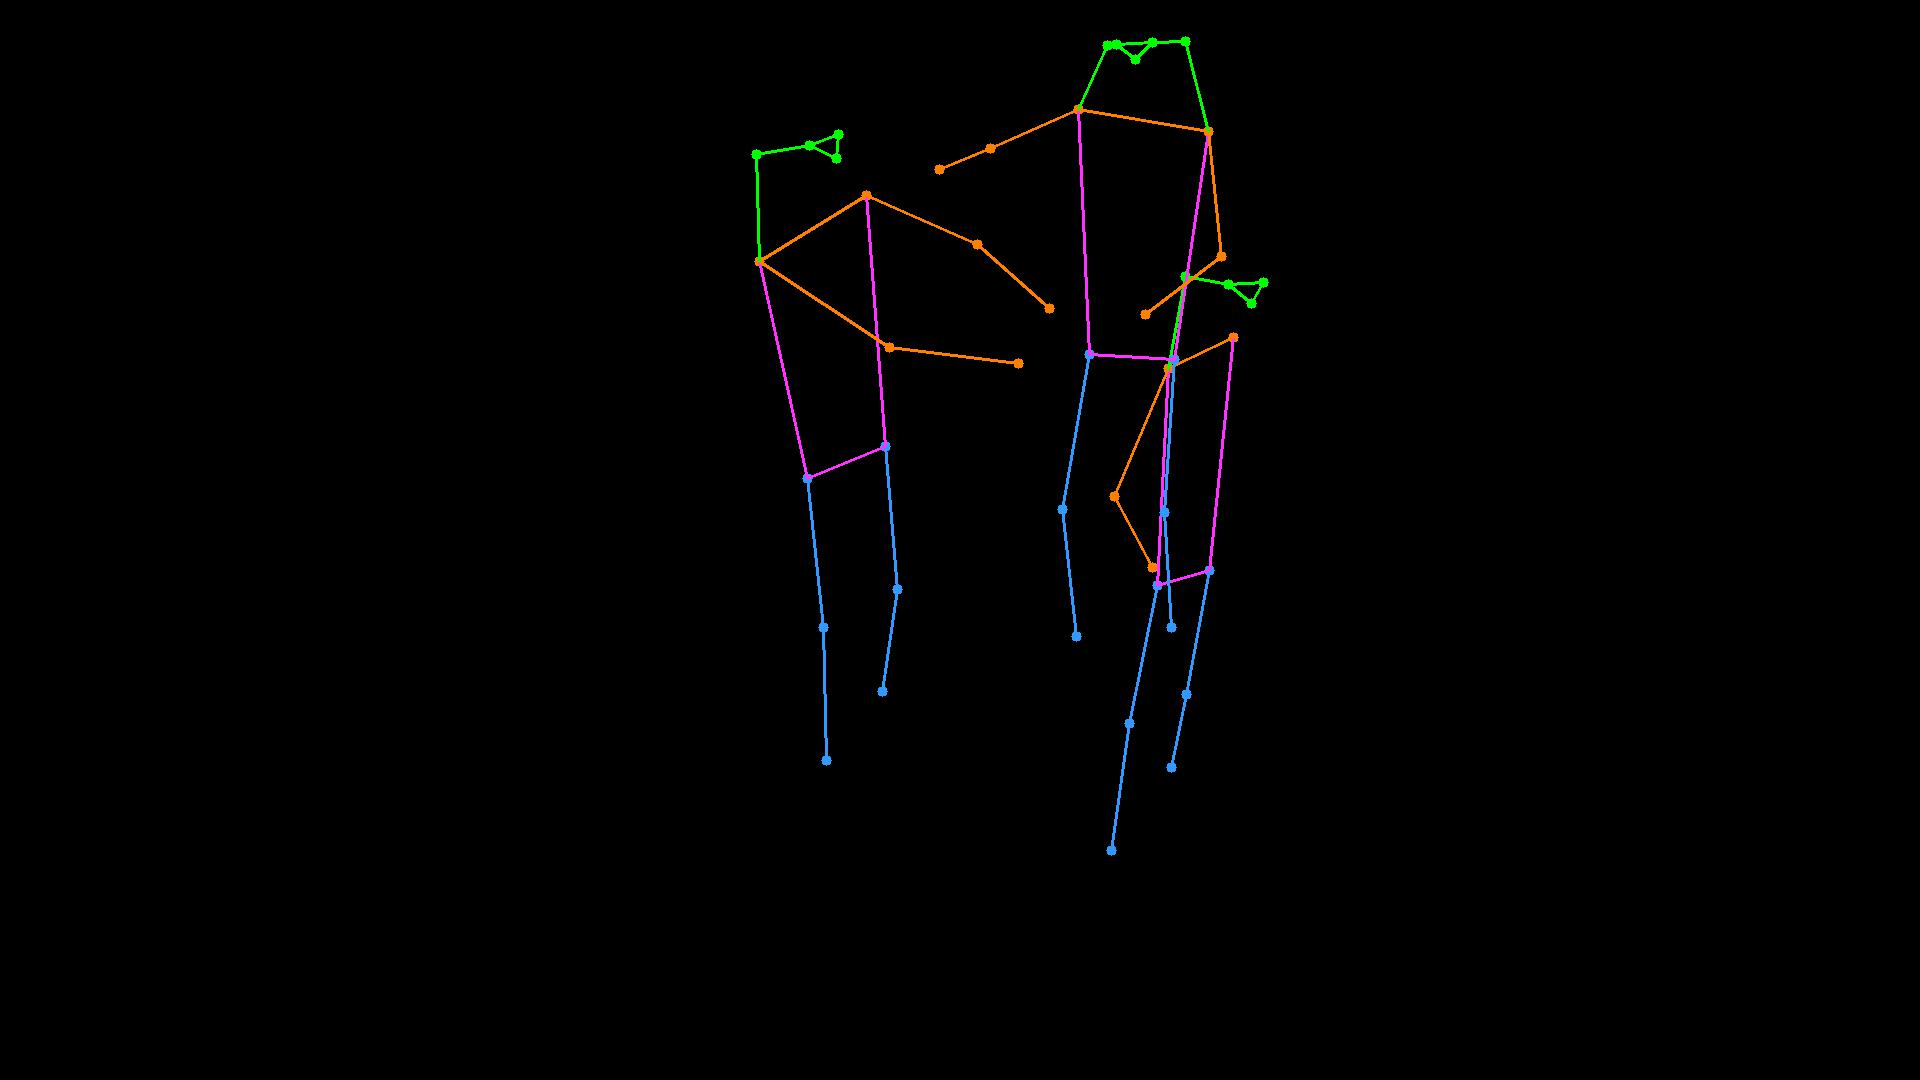normal: (699, 8, 1298, 870)
